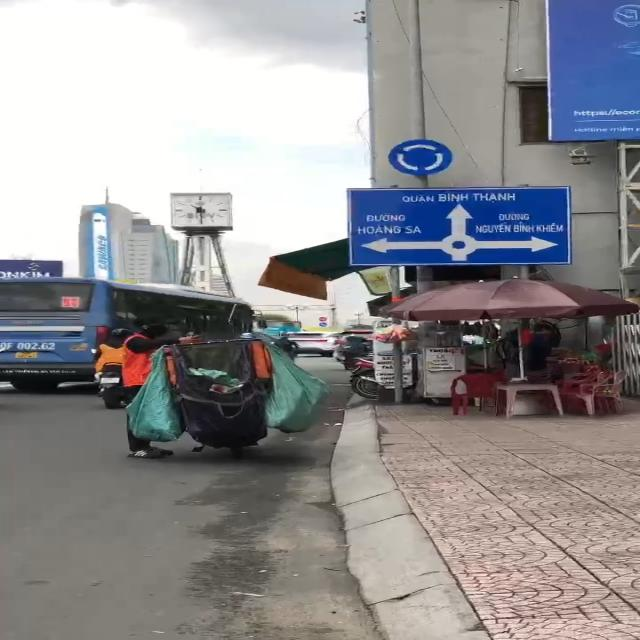Bien bao noi giao nhau chay theo vong xuyen: (383, 136, 459, 180)
